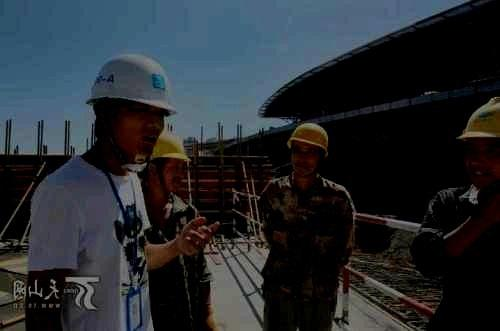helmet: (85, 52, 179, 165), (455, 96, 500, 189), (149, 132, 192, 194), (286, 122, 328, 176)
